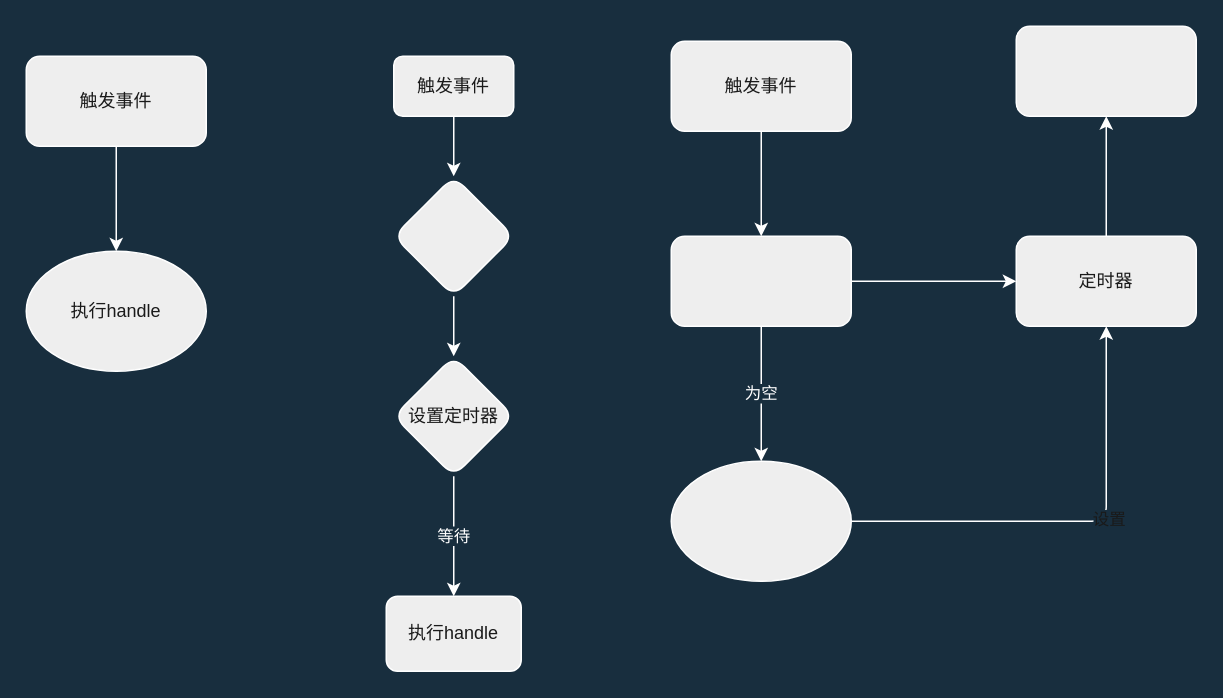
Image size: 1223x698. Some labels were removed from this diagram. The shapes that lost their labels are listed below. From the top down, each one's centre as x and y in pixels, then its label:
At (1105,70): "返回".
At (453,235): "清除定时器".
At (760,280): "检查定时器".
At (760,520): "执行事件".
